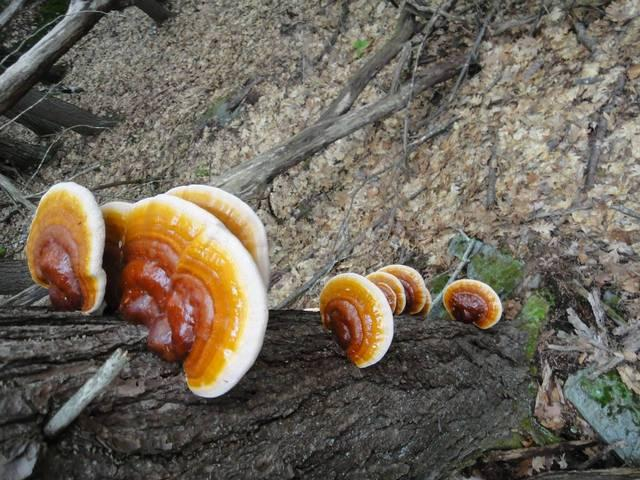poisonous_mushroom: (85, 183, 284, 385), (24, 180, 107, 316), (317, 271, 394, 369), (441, 277, 503, 330)
